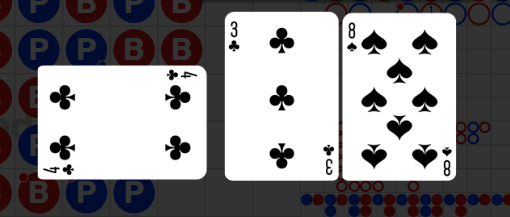4C: (164, 68, 199, 83), (42, 162, 77, 176)
8S: (440, 144, 453, 177)
